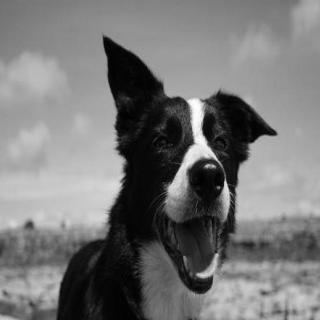dog: (99, 17, 278, 302)
nose: (187, 154, 228, 206)
